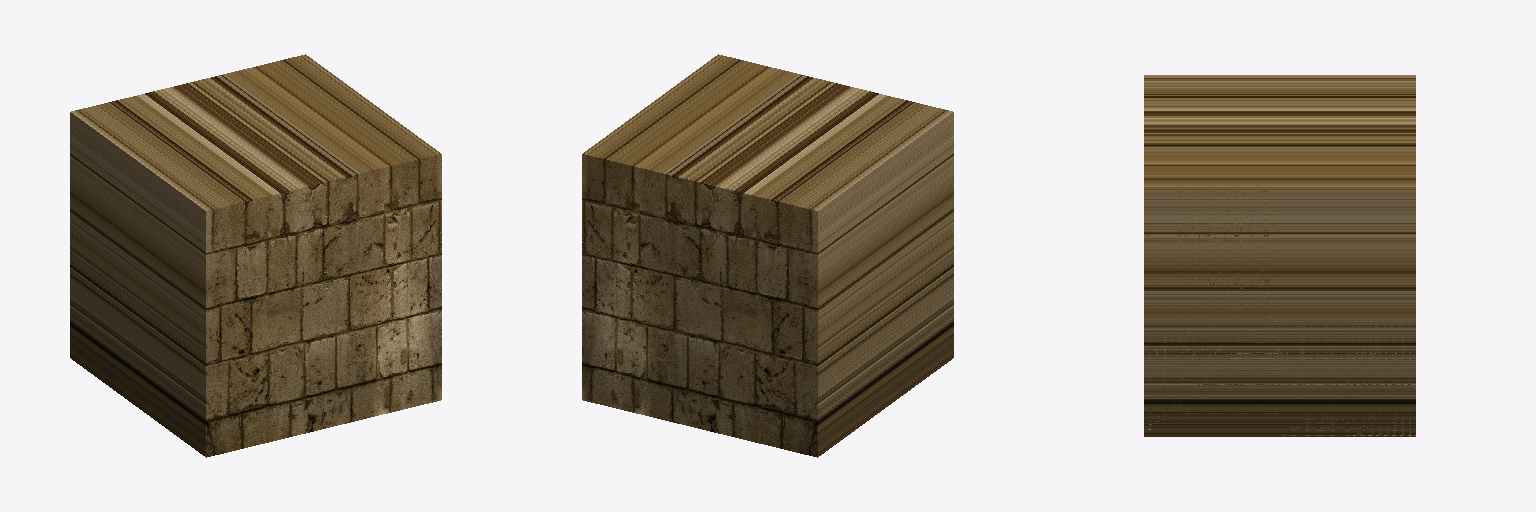
3 views of the same model, side by side, from view 1: azimuth 30°, elevation 25°; view 2: azimuth 150°, elevation 25°; view 3: azimuth 270°, elevation 25° (orthographic).
Parts seen in each view (by area): view 1: cube01; view 2: cube01; view 3: cube01.
Part boxes in pixels (bbox=[...]): cube01: bbox=[70, 54, 441, 457]; cube01: bbox=[582, 54, 953, 457]; cube01: bbox=[1144, 75, 1415, 436].
Bounding box in the file's own units: 5 × 5 × 5.
Materials: 1 (1 with a texture image).